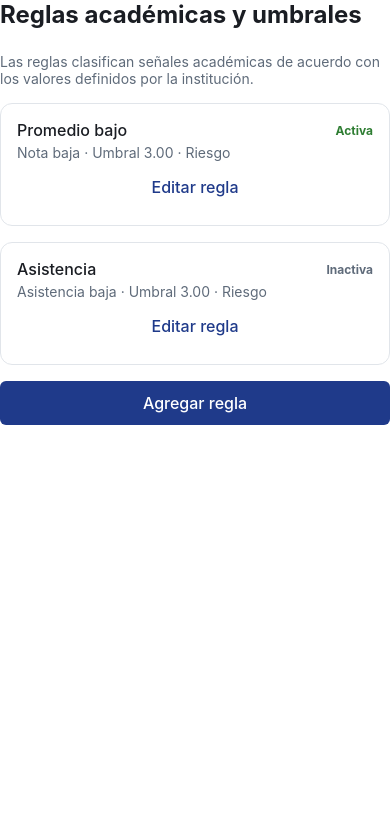
Test: muestra los errores del servidor y permite cancelar
Click the button "Editar regla" below "Asistencia baja": (195, 326) x1=17 y1=304 x2=373 y2=348
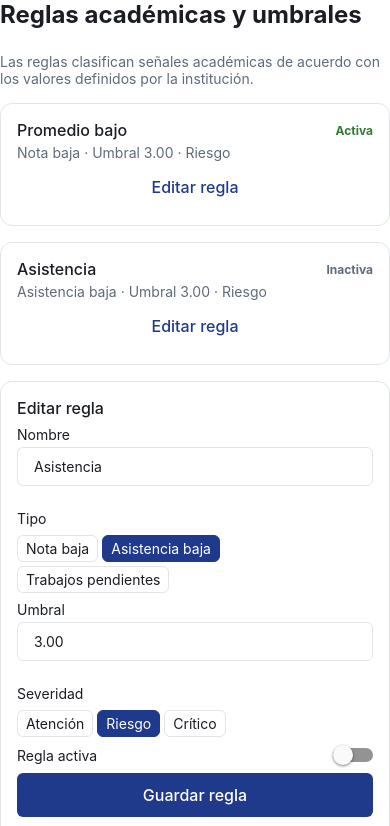
Expected: the text "Editar regla" below "Promedio bajo" is shown, x1=152 y1=177 x2=238 y2=197
Click the button "Guardar regla": (195, 795) x1=17 y1=773 x2=373 y2=817
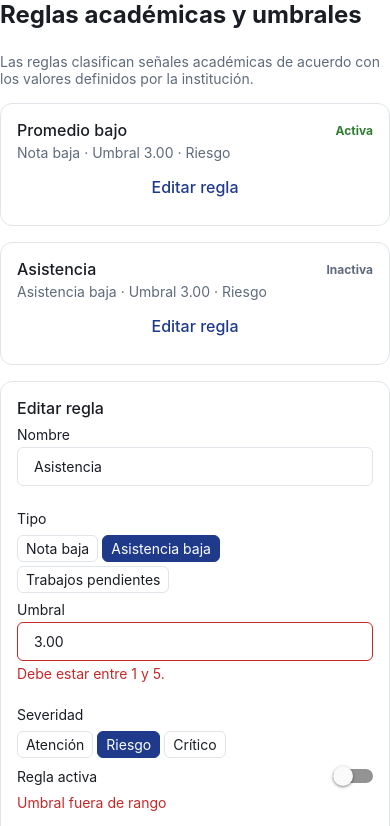
Expected: the text "Debe estar entre 1 y 5." is shown, x1=17 y1=665 x2=165 y2=682
Expected: the text "Umbral fuera de rango" is shown, x1=17 y1=794 x2=166 y2=811
Click the switch: (353, 776) x1=333 y1=766 x2=373 y2=786
(page scrolled)
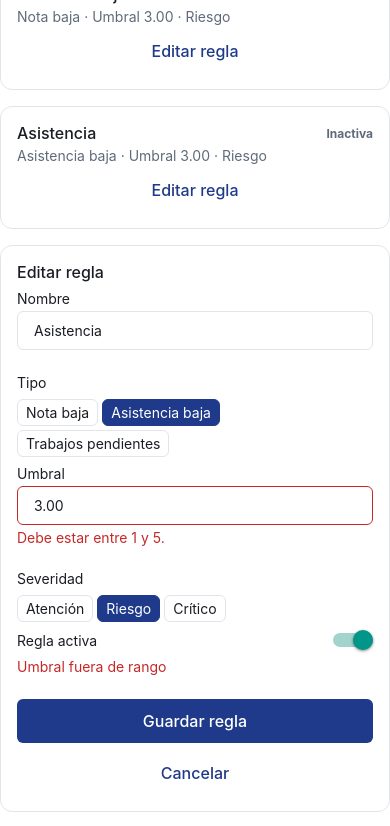
Click the button "Cancelar": (195, 773) x1=17 y1=751 x2=373 y2=795
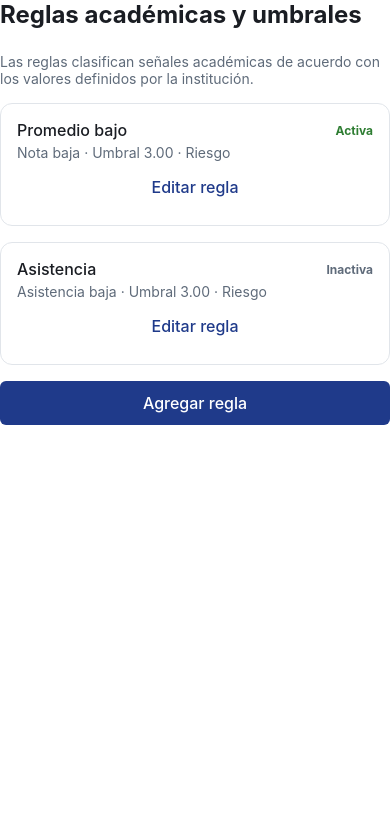
Expected: the button "Guardar regla" is gone
